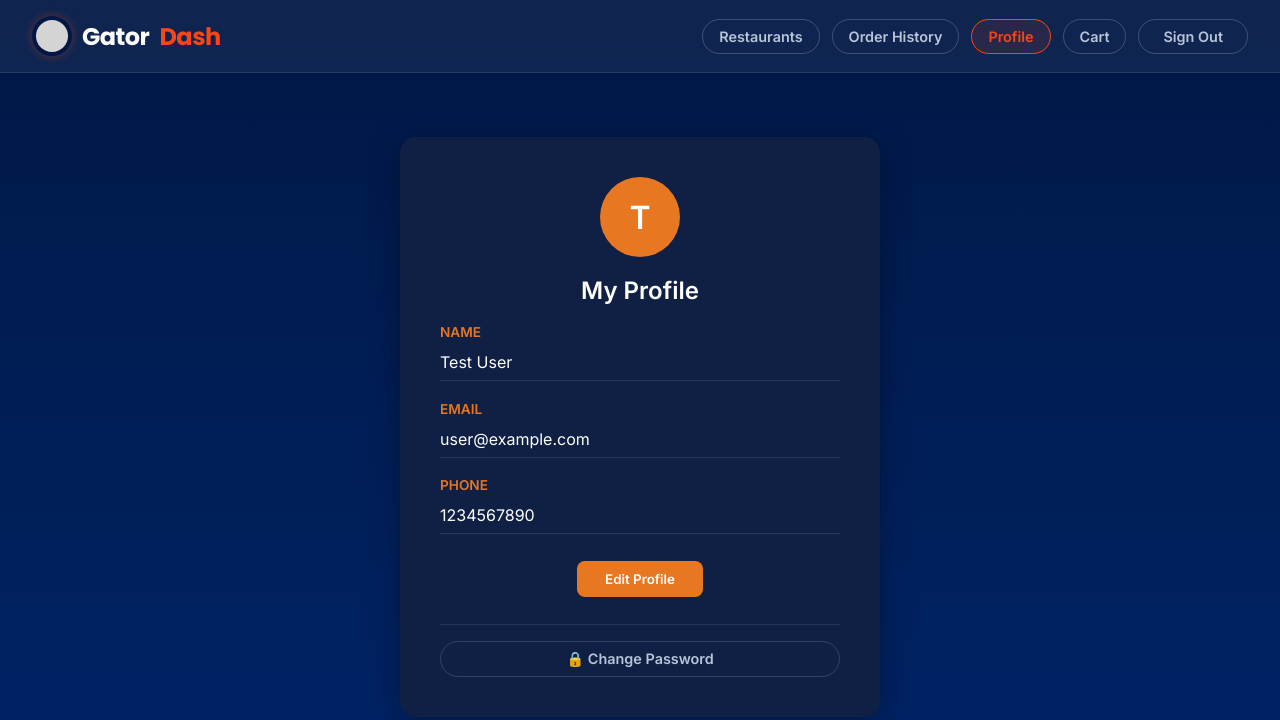
Test: Profile Page - JWT Auth › cancels editing and restores original values
Step 1. Click the button "Edit Profile" → (640, 579), box 577,561 -> 703,597
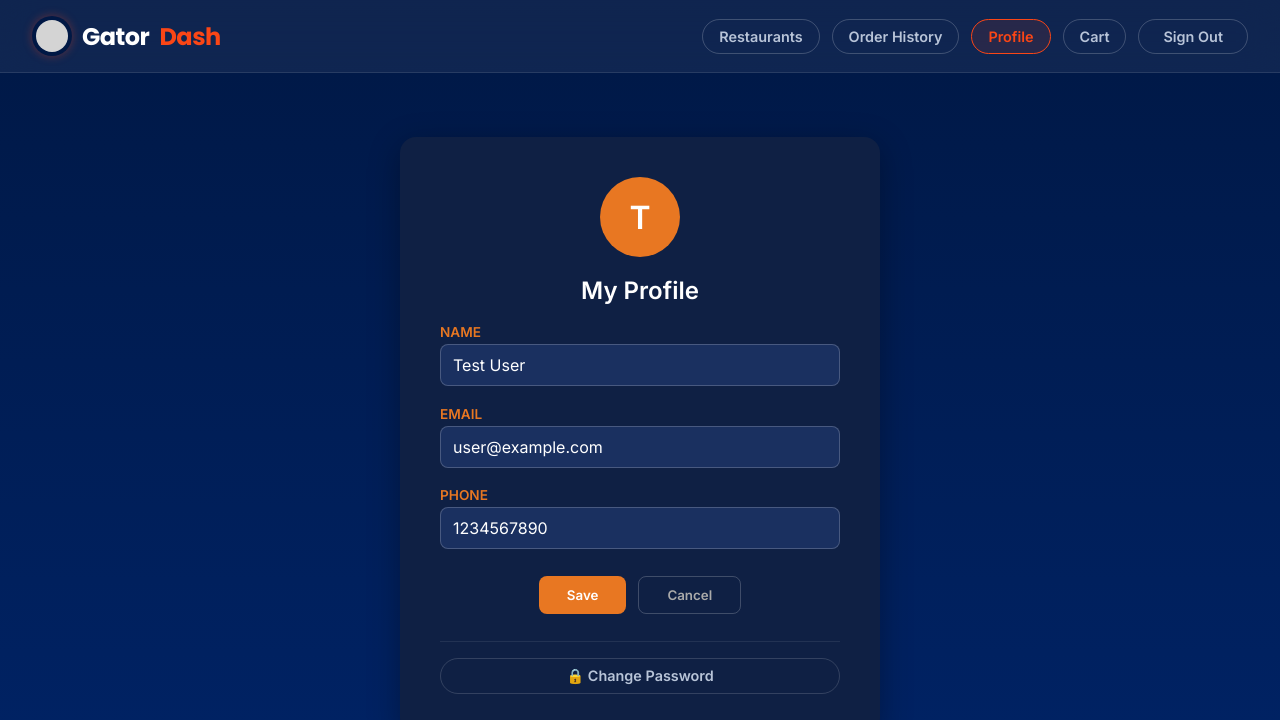
Step 2. Click the button "Cancel" → (690, 595), box 638,576 -> 741,614
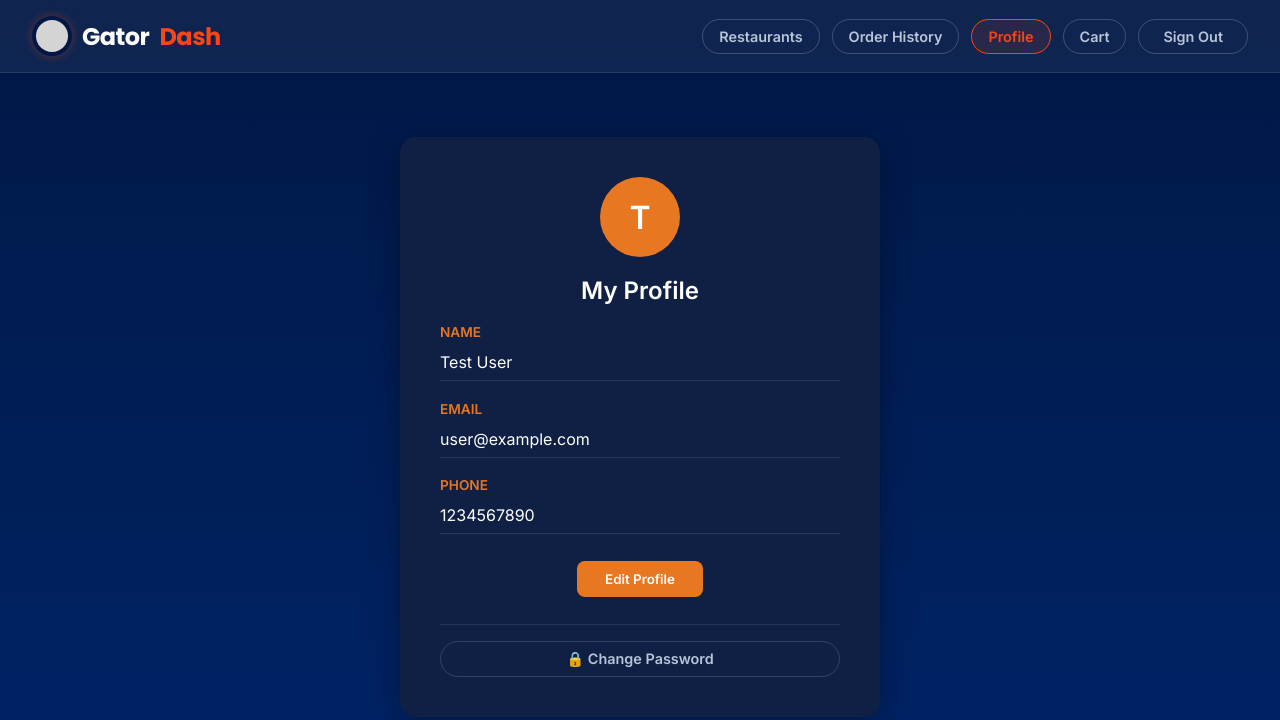
Expected: the text "Test User" is shown, 440,344 -> 840,381
